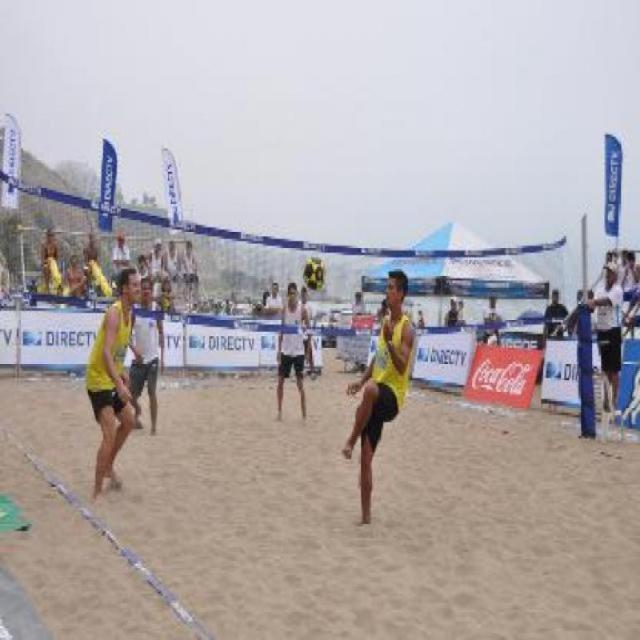volleyball: (300, 255, 325, 290)
